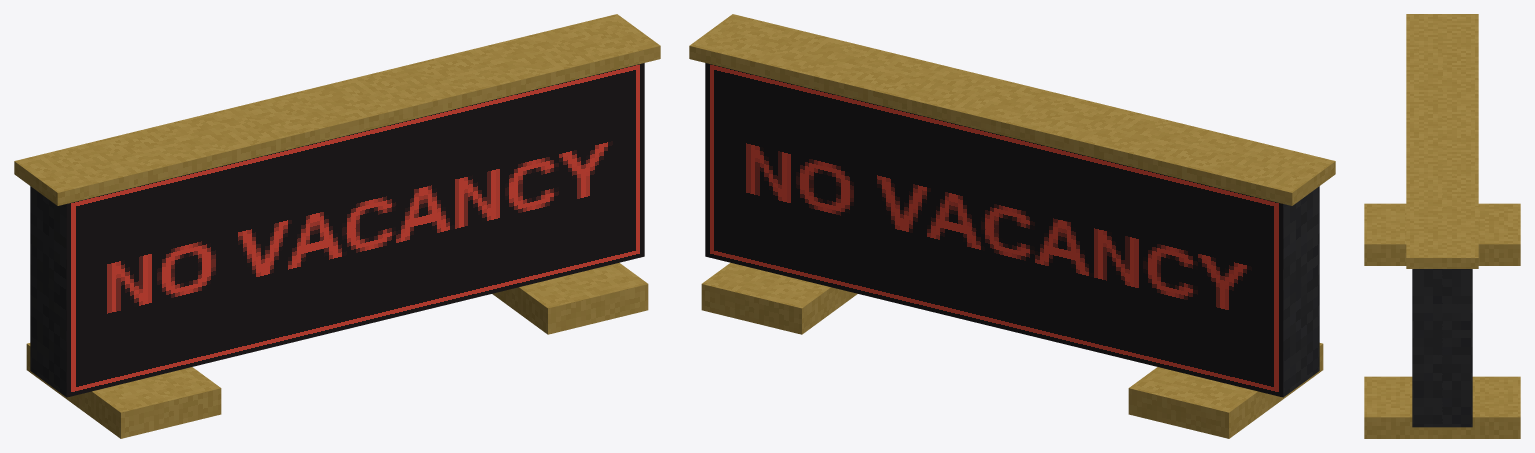
The model's file is no_vacancy_sign.glb.
The picture shows the model from 3 angles, left to right: view 1: azimuth 30°, elevation 25°; view 2: azimuth 150°, elevation 25°; view 3: azimuth 270°, elevation 25°; orthographic projection. The views are drawn at different scales.
Visible parts, largest first — view 1: no_vacancy_sign; view 2: no_vacancy_sign; view 3: no_vacancy_sign.
Part boxes in pixels (x1,y1,x2,y2): no_vacancy_sign: (14,14,660,438); no_vacancy_sign: (689,14,1335,438); no_vacancy_sign: (1364,14,1520,438).
Size of the model in its own units: 0.48 by 0.18 by 0.13.
3 materials, 3 textured.
